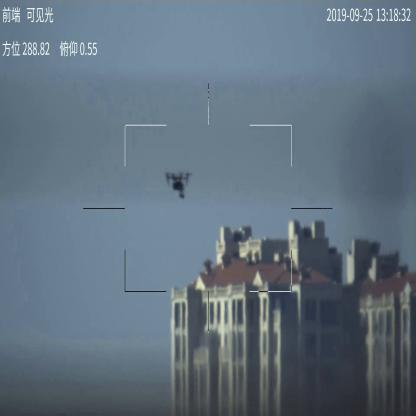uav: (163, 170, 191, 199)
